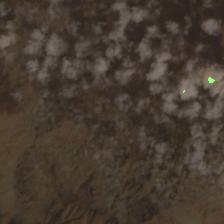landslides: (22, 216, 45, 224)
